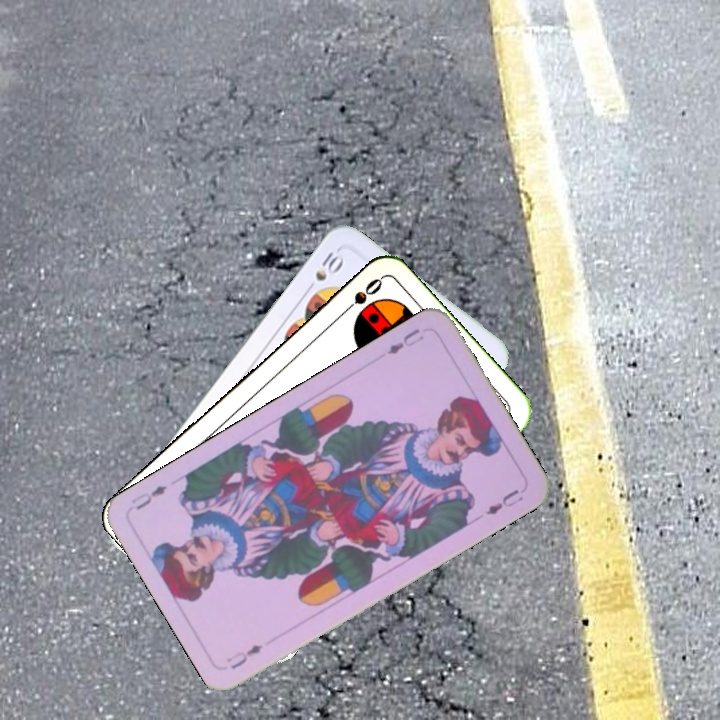EU: (382, 324, 427, 357), (222, 640, 266, 672)
S10: (311, 246, 346, 284)
SO: (336, 274, 385, 319)
